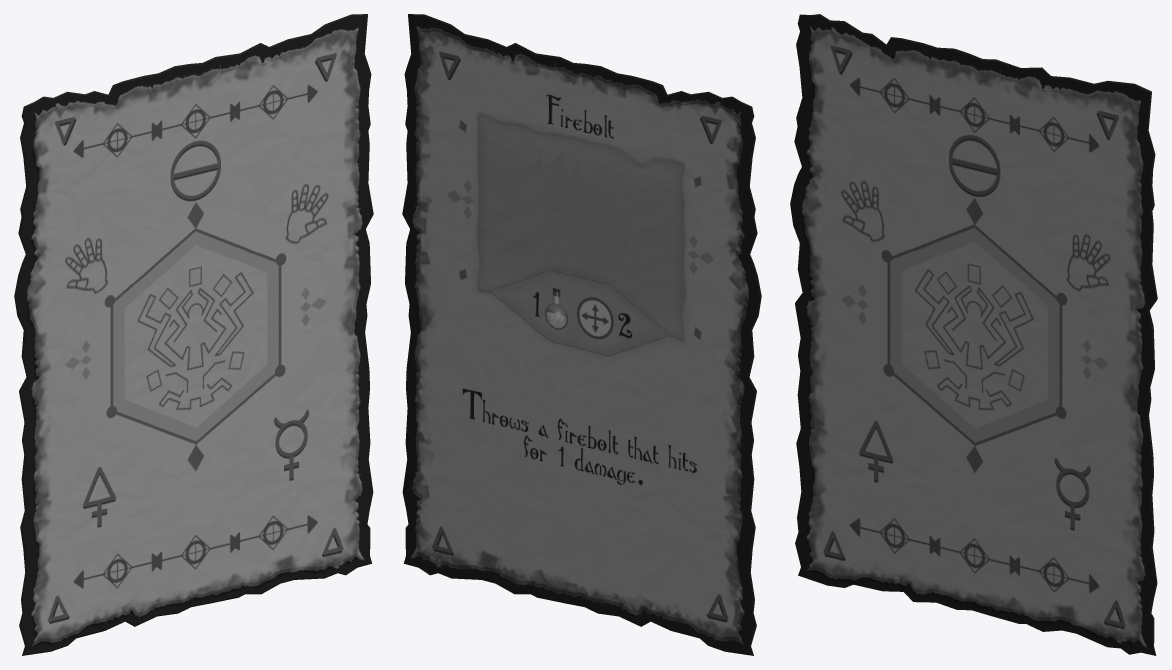
File: spellCard_3D.fbx
3 renders of one model, left to right at view 1: azimuth 30°, elevation 25°; view 2: azimuth 150°, elevation 25°; view 3: azimuth 330°, elevation 25°, orthographic. The views are drawn at different scales.
Visible parts, largest first — view 1: UseMe_CardModel; view 2: UseMe_CardModel; view 3: UseMe_CardModel.
Boxes of the visible parts, x1,y1,x2,y2 form: UseMe_CardModel: (14, 14, 373, 655); UseMe_CardModel: (402, 14, 761, 655); UseMe_CardModel: (790, 14, 1157, 655).
Bounding box in the file's own units: 104 × 156 × 0.5288.
1 material, 1 textured.
